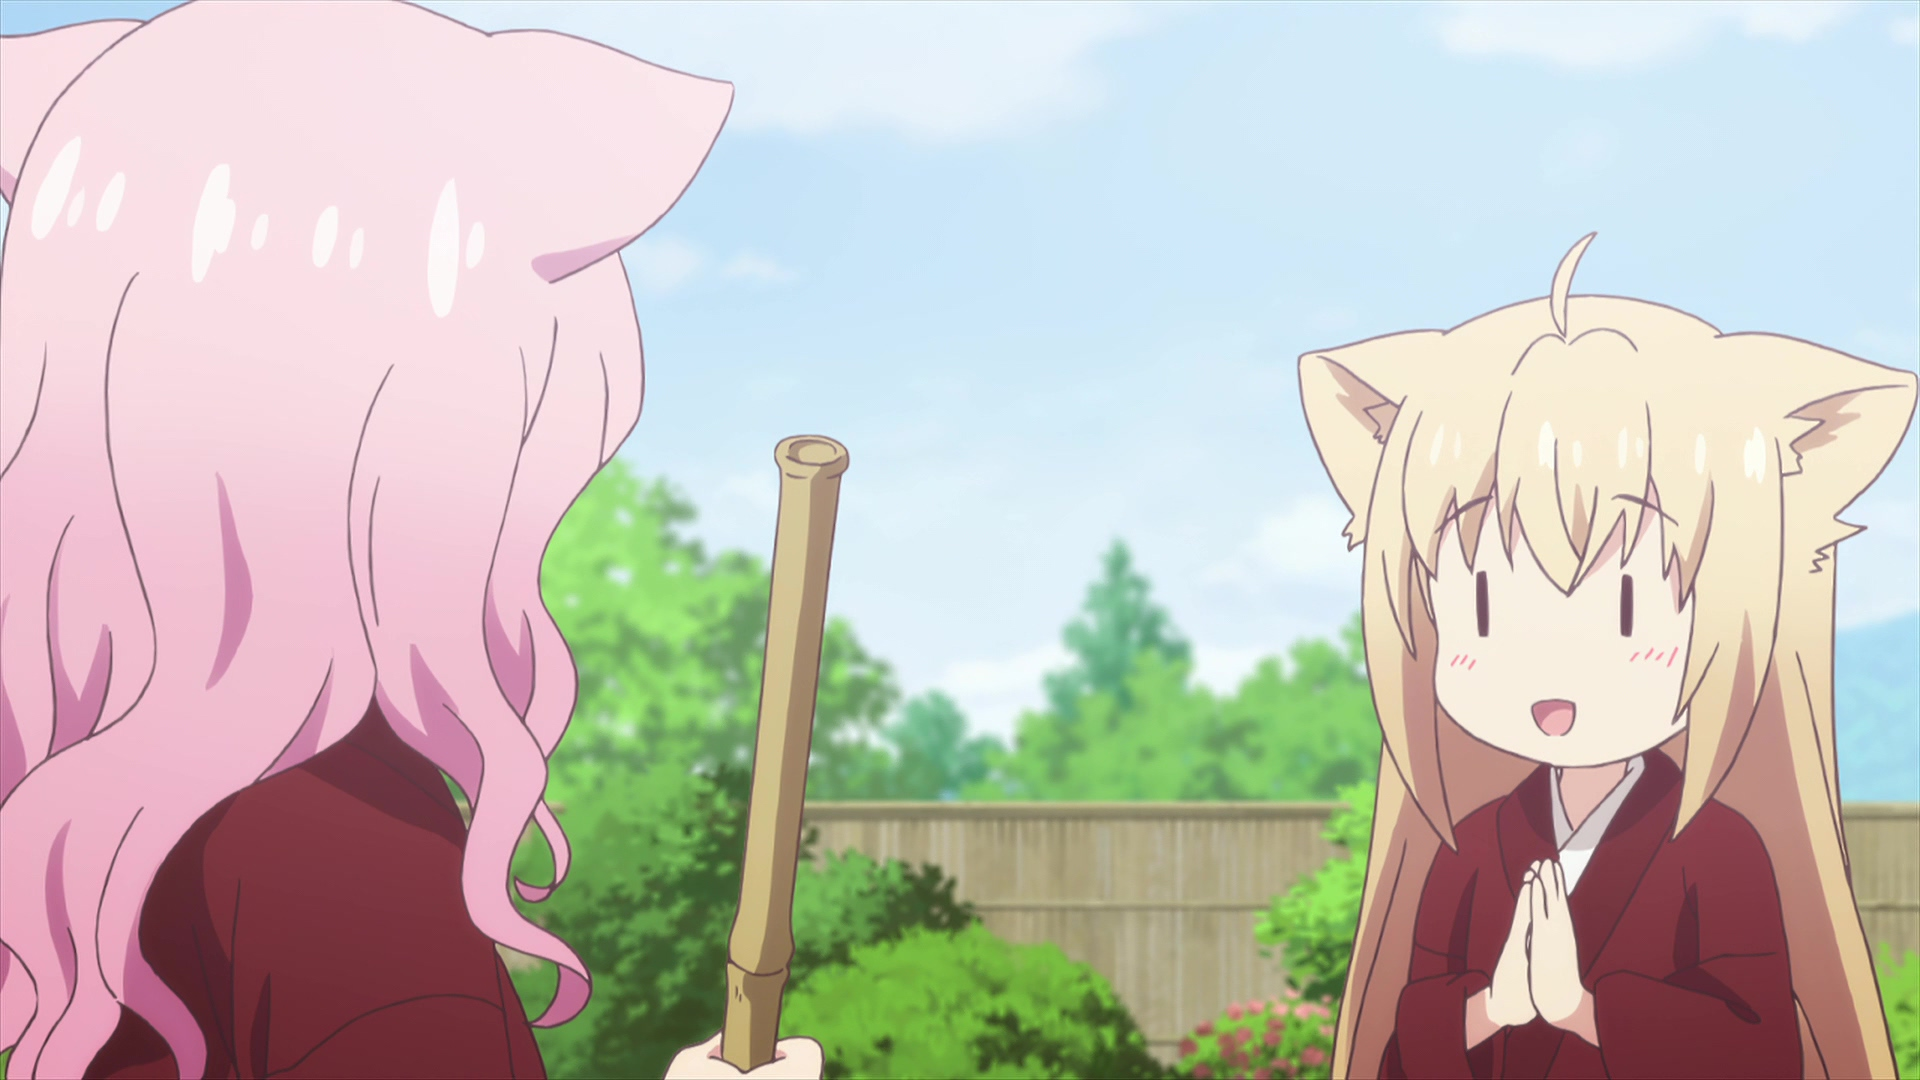柚: (1299, 233, 1920, 1080)
莲: (1, 1, 824, 1080)
